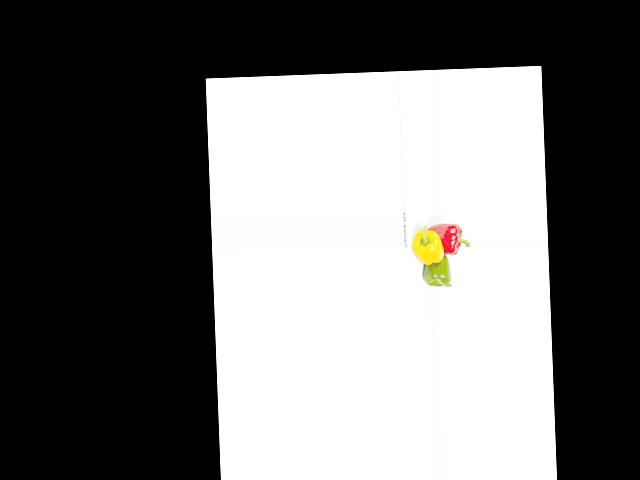bell_pepper: (429, 219, 470, 256)
